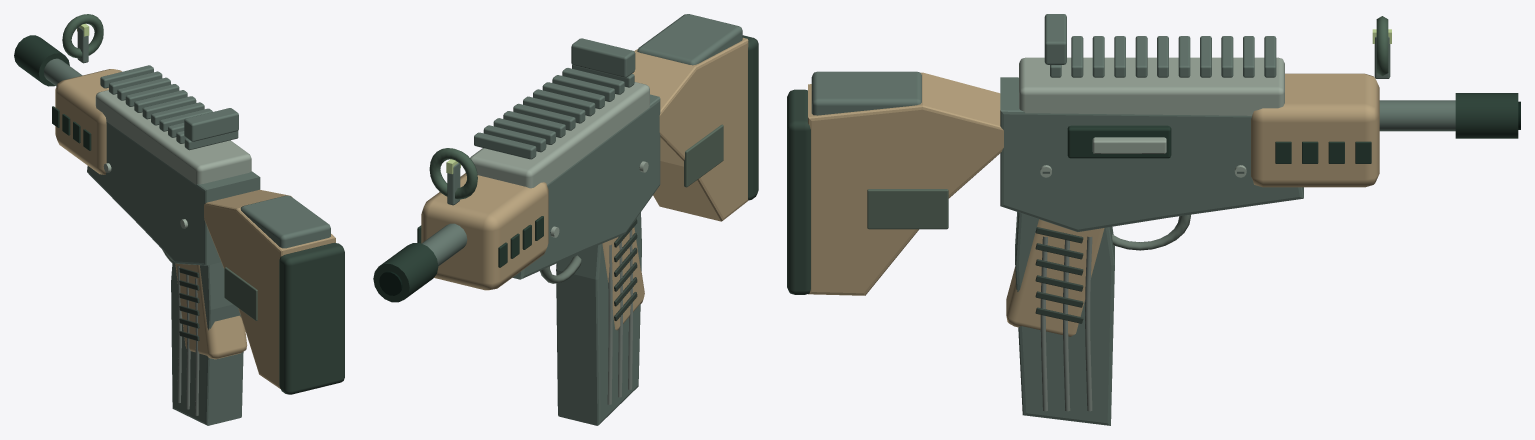
3 renders of one model, left to right at view 1: azimuth 30°, elevation 25°; view 2: azimuth 150°, elevation 25°; view 3: azimuth 270°, elevation 25°, orthographic. The views are drawn at different scales.
Parts seen in each view (by area): view 1: mp9, magazine; view 2: mp9, magazine; view 3: mp9, magazine, bolt.
Boxes of the visible parts, bbox=[...] form: mp9: bbox=[14, 14, 344, 394]; magazine: bbox=[171, 261, 243, 425]; mp9: bbox=[373, 14, 758, 330]; magazine: bbox=[556, 212, 641, 425]; mp9: bbox=[787, 14, 1520, 336]; magazine: bbox=[1015, 212, 1114, 425]; bolt: bbox=[1067, 125, 1171, 158].
Size of the model in its own units: 0.1485 by 0.5924 by 0.9925.
